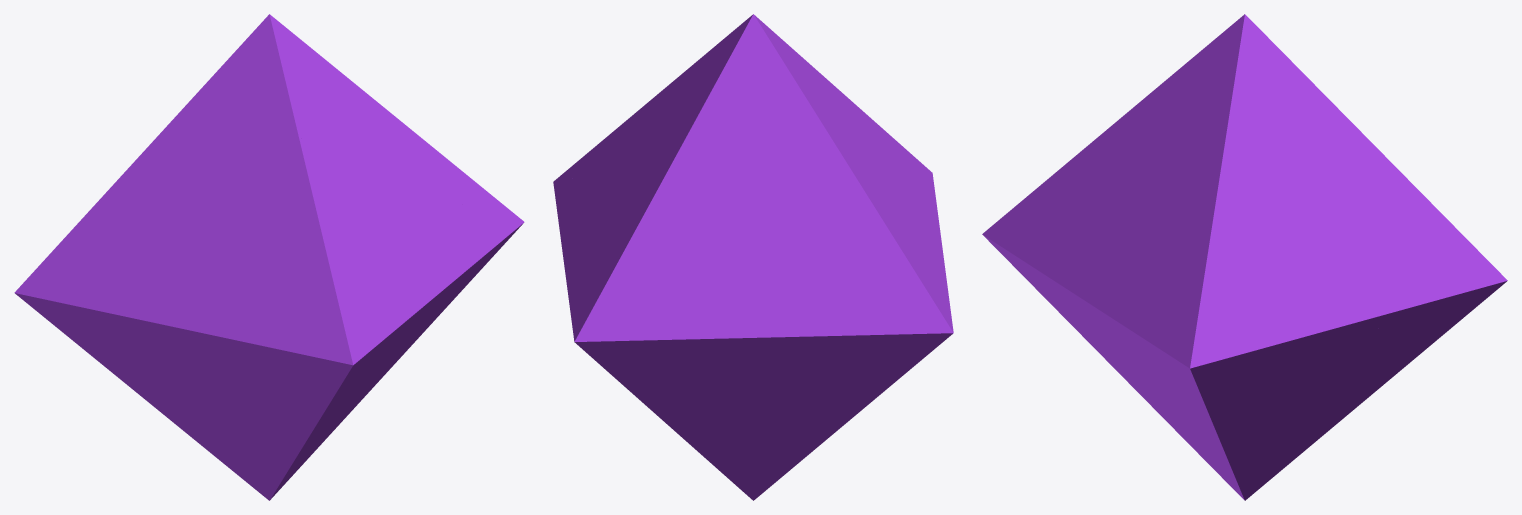
File: Crystal.004_chunks.fbx
3 renders of one model, left to right at view 1: azimuth 30°, elevation 25°; view 2: azimuth 150°, elevation 25°; view 3: azimuth 270°, elevation 25°, orthographic.
Visible parts, largest first — view 1: Crystal.004_0, Crystal.004_12, Crystal.004_2, Crystal.004_11, Crystal.004_5, Crystal.004_4, Crystal.004_10, Crystal.004_13, Crystal.004_1, Crystal.004_15, Crystal.004_6, Crystal.004_14 (+1 smaller); view 2: Crystal.004_12, Crystal.004_10, Crystal.004_22, Crystal.004_9, Crystal.004_7, Crystal.004_21, Crystal.004_17, Crystal.004_24, Crystal.004_4, Crystal.004_20, Crystal.004_0, Crystal.004_11 (+3 smaller); view 3: Crystal.004_9, Crystal.004_8, Crystal.004_2, Crystal.004_10, Crystal.004_0, Crystal.004_7, Crystal.004_4, Crystal.004_13, Crystal.004_15, Crystal.004_6, Crystal.004_14, Crystal.004_3 (+1 smaller).
Boxes of the visible parts, x1,y1,x2,y2 form: Crystal.004_0: (227,135,407,399); Crystal.004_12: (21,41,278,308); Crystal.004_2: (274,71,464,228); Crystal.004_11: (67,155,267,323); Crystal.004_5: (51,320,317,418); Crystal.004_4: (140,388,364,500); Crystal.004_10: (245,14,338,132); Crystal.004_13: (358,221,467,372); Crystal.004_1: (185,216,289,396); Crystal.004_15: (381,203,496,368); Crystal.004_6: (405,128,503,292); Crystal.004_14: (285,344,397,419); Crystal.004_12: (754,44,952,325); Crystal.004_10: (642,14,816,246); Crystal.004_22: (648,223,804,366); Crystal.004_9: (561,86,680,307); Crystal.004_7: (570,229,704,418); Crystal.004_21: (778,277,953,362); Crystal.004_17: (677,376,860,444); Crystal.004_24: (709,206,869,292); Crystal.004_4: (690,416,854,500); Crystal.004_20: (733,357,913,410); Crystal.004_0: (815,69,940,231); Crystal.004_11: (832,100,949,304); Crystal.004_9: (1193,139,1440,336); Crystal.004_8: (1164,326,1391,444); Crystal.004_2: (1121,73,1244,295); Crystal.004_10: (1175,14,1407,179); Crystal.004_0: (982,90,1154,301); Crystal.004_7: (1354,199,1507,396); Crystal.004_4: (1088,342,1337,500); Crystal.004_13: (1047,230,1136,349); Crystal.004_15: (1121,249,1178,401); Crystal.004_6: (1156,204,1212,369); Crystal.004_14: (1048,294,1165,392); Crystal.004_3: (1101,350,1309,451).
Bounding box in the file's own units: 1002 × 1024 × 1002.
